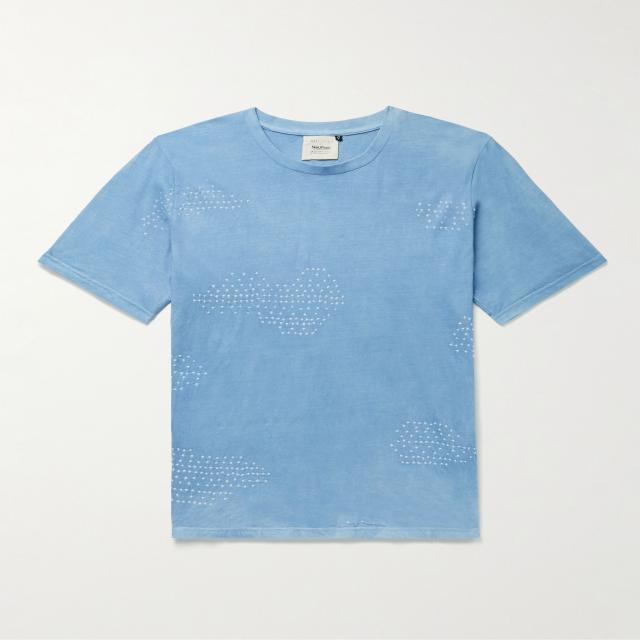tshirt: (39, 107, 612, 543)
